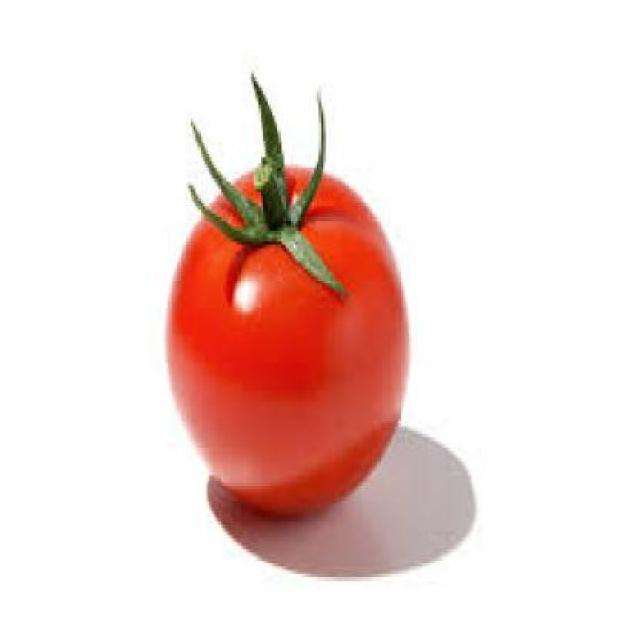kirmizi: (146, 88, 454, 534)
